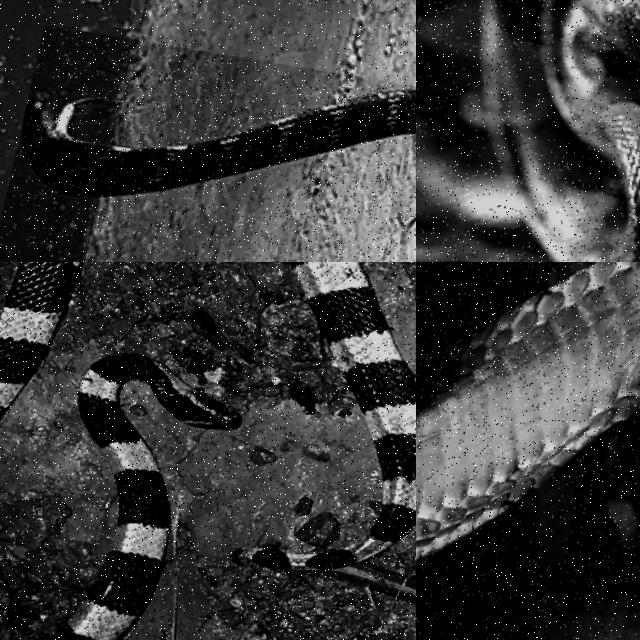Bungarus candidus: (233, 262, 415, 569)
Malayopython reticulatus: (416, 0, 639, 261)
Ophiophagus hannah: (416, 262, 639, 639), (23, 89, 415, 196)
